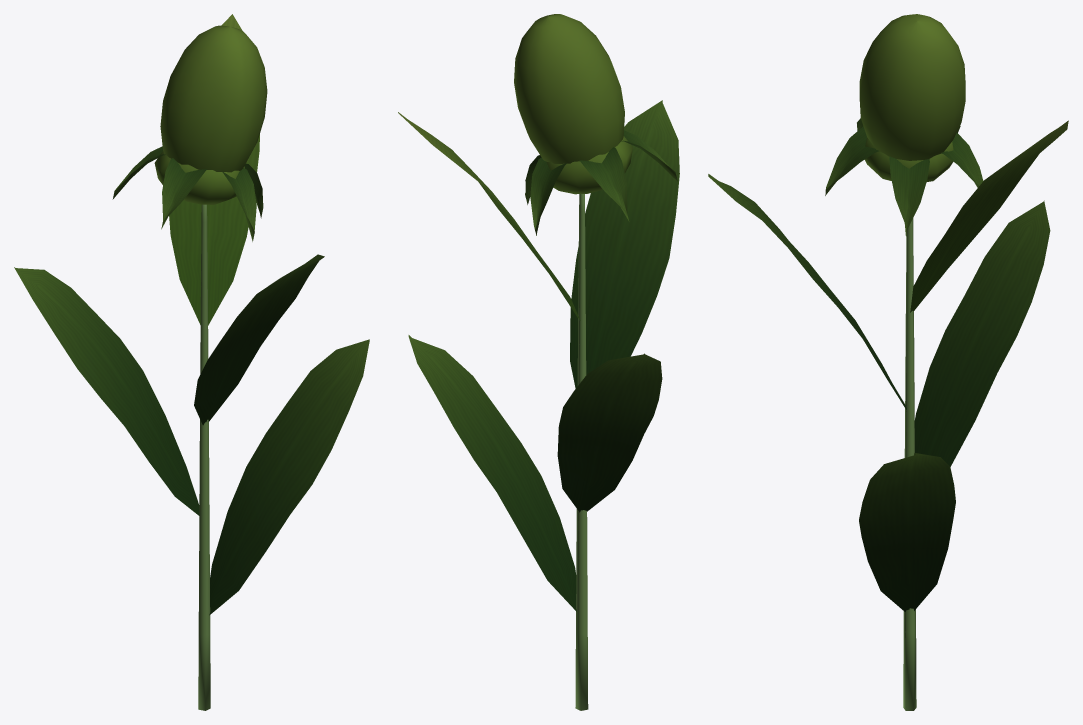
The model's file is tulip-07-lod.glb.
3 views of the same model, side by side, from view 1: azimuth 30°, elevation 25°; view 2: azimuth 150°, elevation 25°; view 3: azimuth 270°, elevation 25° (orthographic). The views are drawn at different scales.
Parts seen in each view (by area): view 1: tulip_stage_07_leaf_veins.013, tulip_stage_07_young_leaf.013, tulip_stage_07_stem_fibres.013; view 2: tulip_stage_07_leaf_veins.013, tulip_stage_07_young_leaf.013, tulip_stage_07_stem_fibres.013; view 3: tulip_stage_07_leaf_veins.013, tulip_stage_07_young_leaf.013, tulip_stage_07_stem_fibres.013.
Boxes of the visible parts, x1=… form: tulip_stage_07_leaf_veins.013: x1=14, y1=146, x2=369, y2=615; tulip_stage_07_young_leaf.013: x1=154, y1=14, x2=267, y2=325; tulip_stage_07_stem_fibres.013: x1=198, y1=204, x2=210, y2=710; tulip_stage_07_leaf_veins.013: x1=408, y1=100, x2=679, y2=611; tulip_stage_07_young_leaf.013: x1=398, y1=14, x2=632, y2=320; tulip_stage_07_stem_fibres.013: x1=575, y1=194, x2=588, y2=710; tulip_stage_07_leaf_veins.013: x1=708, y1=118, x2=1050, y2=612; tulip_stage_07_young_leaf.013: x1=859, y1=14, x2=1068, y2=312; tulip_stage_07_stem_fibres.013: x1=903, y1=218, x2=916, y2=710.
Bounding box in the file's own units: 0.2028 × 0.444 × 0.2062.
Materials: 3 (2 with a texture image).
